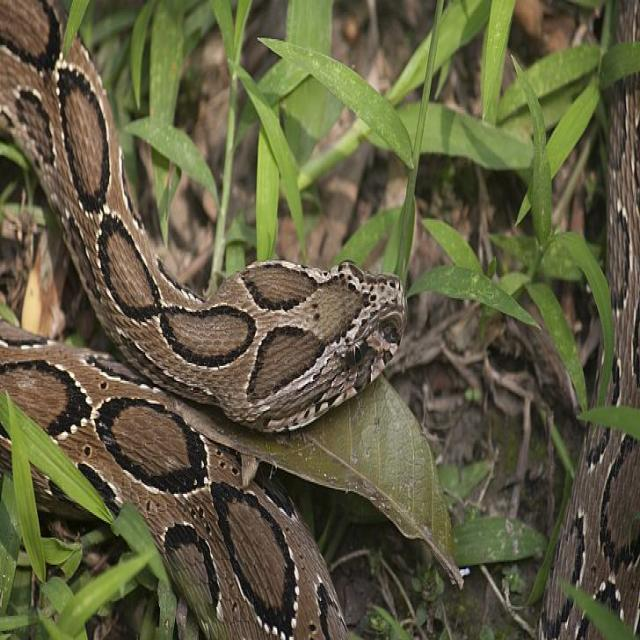Snake: (0, 0, 407, 637)
